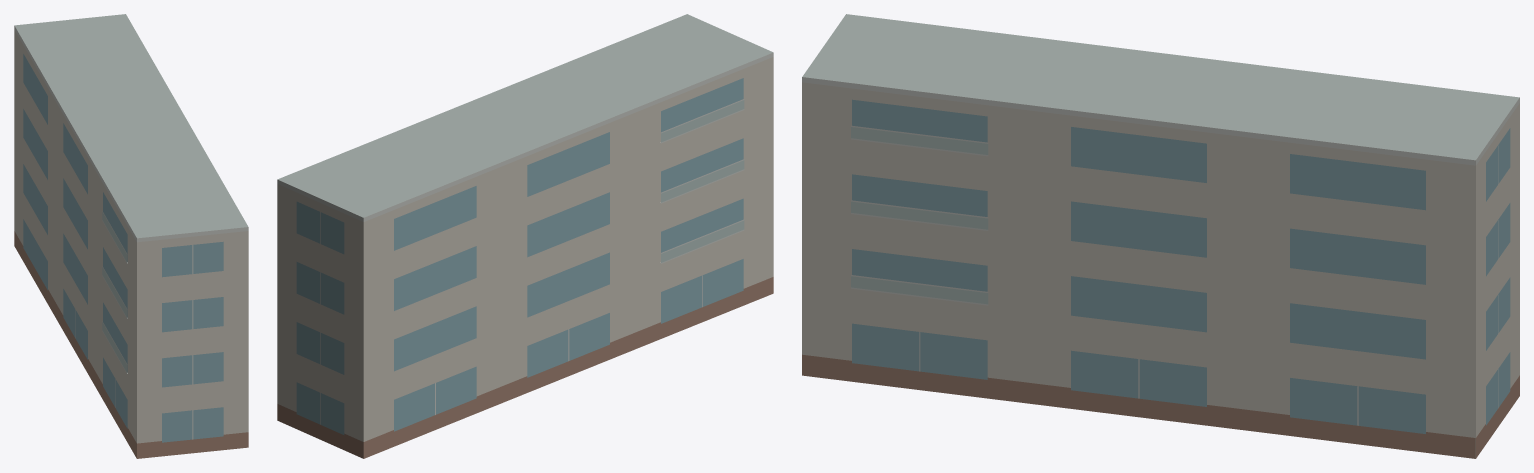
Rendered from survey-upis-32990926.glb.
The picture shows the model from 3 angles, left to right: view 1: azimuth 30°, elevation 25°; view 2: azimuth 150°, elevation 25°; view 3: azimuth 270°, elevation 25°; orthographic projection. The views are drawn at different scales.
Visible parts, largest first — view 1: survey-upis-32990926.tmp; view 2: survey-upis-32990926.tmp; view 3: survey-upis-32990926.tmp.
Boxes of the visible parts, left/top/right/bottom form: survey-upis-32990926.tmp: left=14, top=14, right=248, bottom=458; survey-upis-32990926.tmp: left=277, top=14, right=773, bottom=458; survey-upis-32990926.tmp: left=802, top=14, right=1519, bottom=458.
Size of the model in its own units: 14.31 by 13.6 by 29.64.
